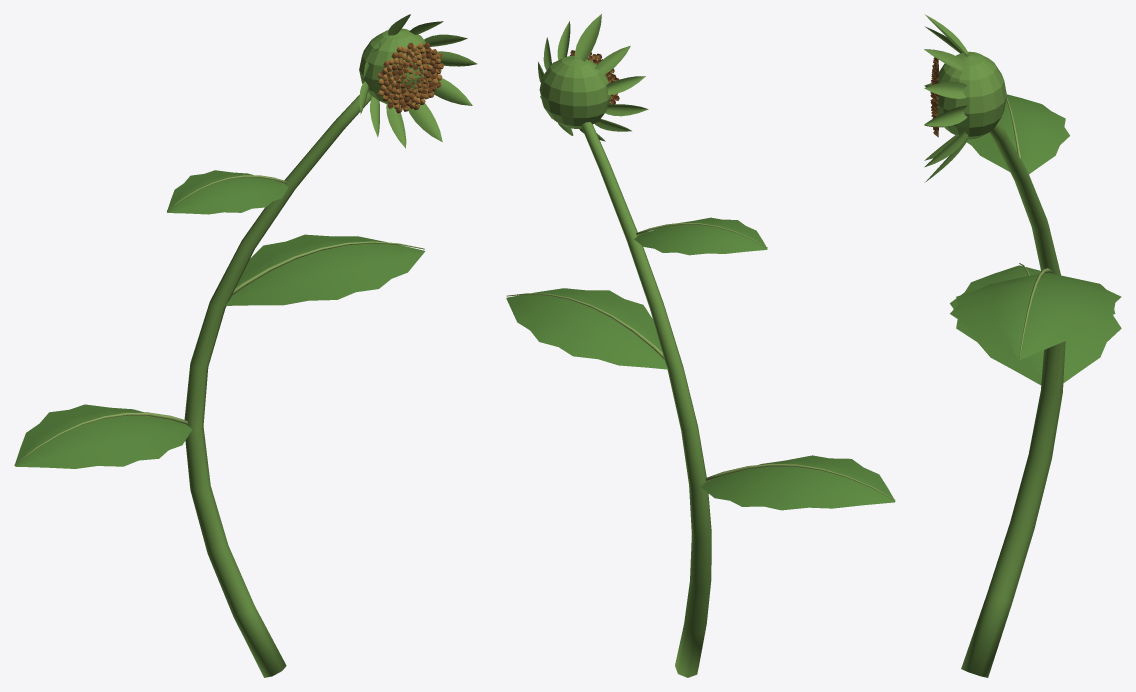
File: sunflower-test-bud-2.glb
3 views of the same model, side by side, from view 1: azimuth 30°, elevation 25°; view 2: azimuth 150°, elevation 25°; view 3: azimuth 270°, elevation 25° (orthographic). The views are drawn at different scales.
Visible parts, largest first — view 1: Curved tapered stem; view 2: Curved tapered stem; view 3: Curved tapered stem.
Boxes of the visible parts, x1=… form: Curved tapered stem: x1=14, y1=14, x2=477, y2=677; Curved tapered stem: x1=506, y1=14, x2=895, y2=677; Curved tapered stem: x1=924, y1=14, x2=1121, y2=677.
Size of the model in its own units: 0.3327 by 0.4933 by 0.1216.
